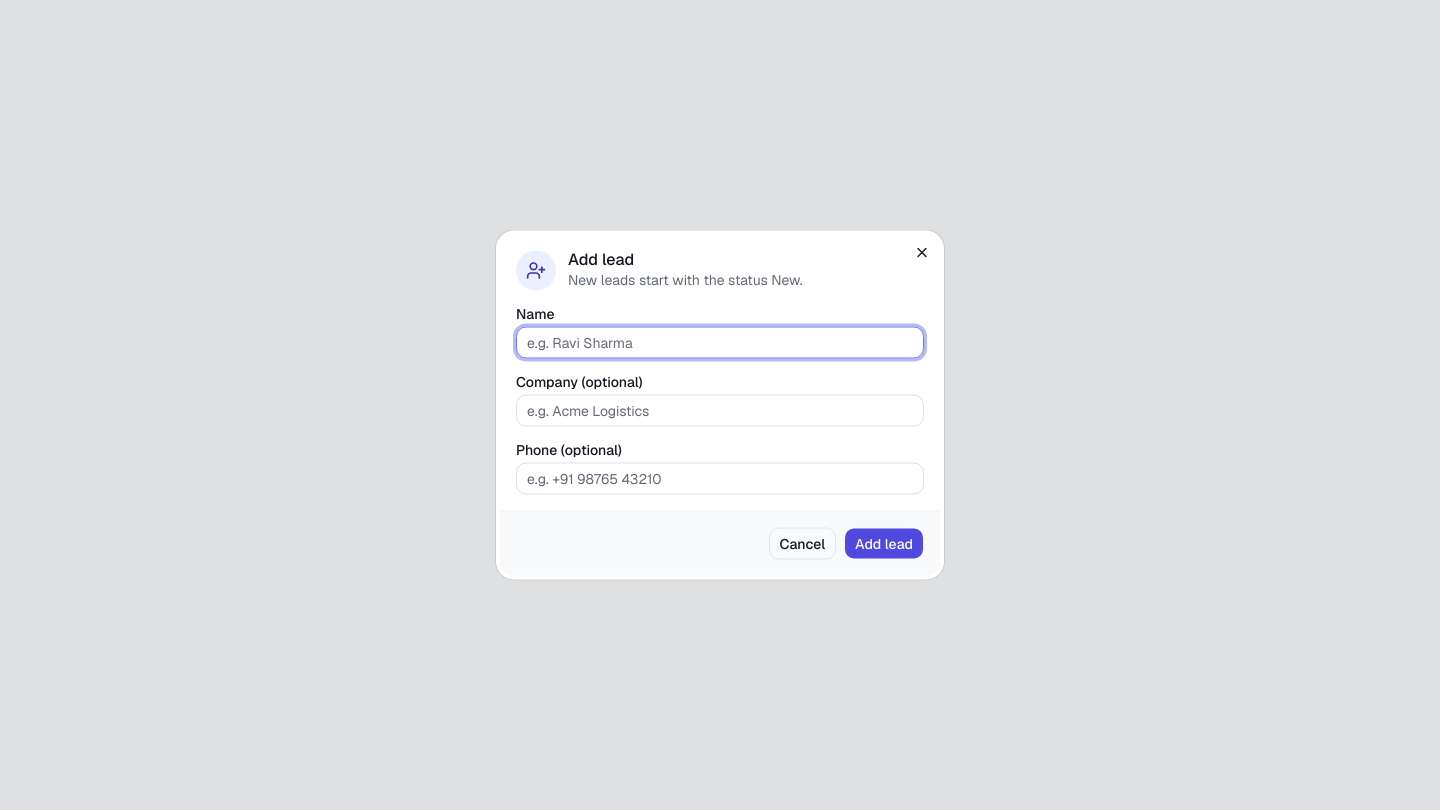
Test: AddLeadDialog › shows a field error and sends nothing when the name is empty
Click the button "Add lead" at coordinates (884, 544), box [844,528,924,560]
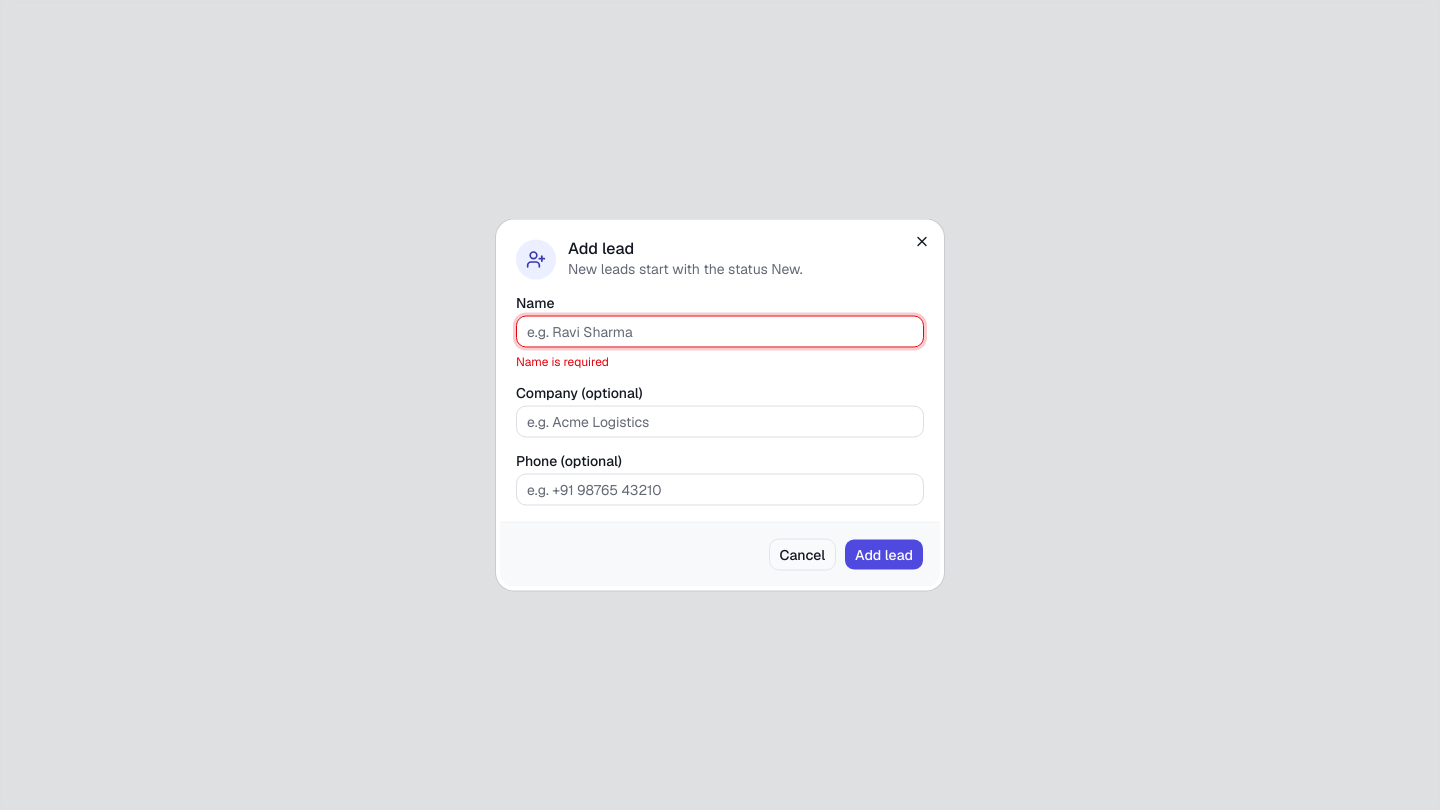
Expected: the text "Name is required" is shown, [516,354,609,370]
